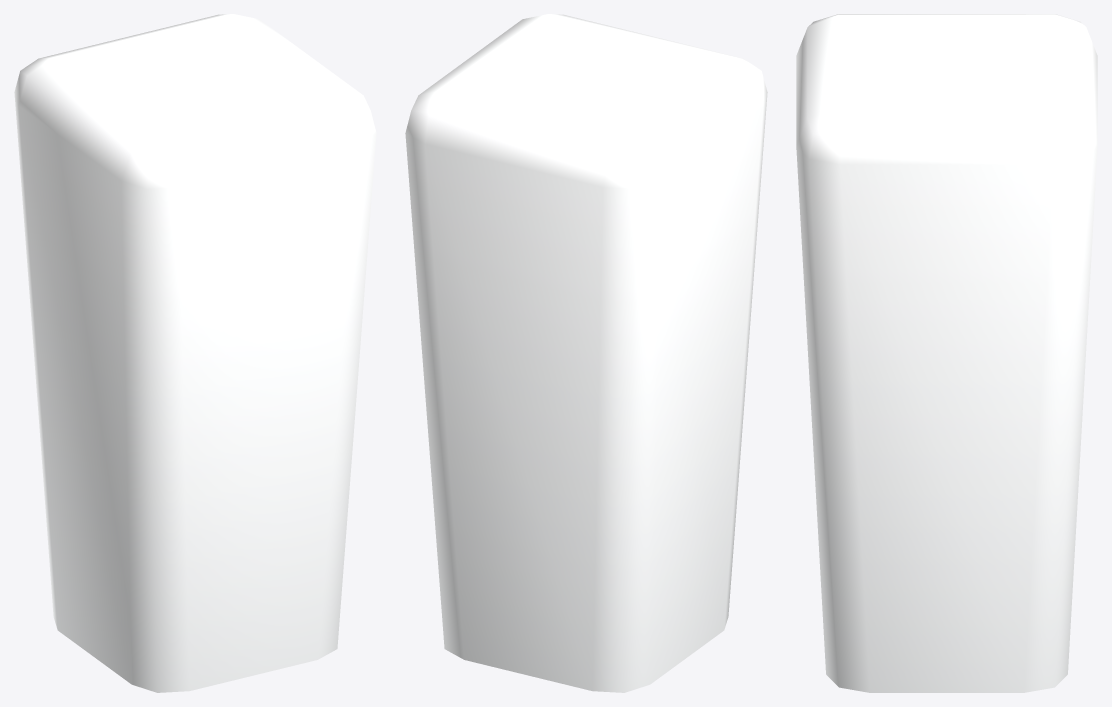
The model's file is FencePillar_01.glb.
3 renders of one model, left to right at view 1: azimuth 30°, elevation 25°; view 2: azimuth 150°, elevation 25°; view 3: azimuth 270°, elevation 25°, orthographic. The views are drawn at different scales.
Parts seen in each view (by area): view 1: FencePillar_01; view 2: FencePillar_01; view 3: FencePillar_01.
Part boxes in pixels (x1,y1,x2,y2): FencePillar_01: (14, 14, 376, 692); FencePillar_01: (405, 14, 767, 692); FencePillar_01: (796, 14, 1097, 692).
Size of the model in its own units: 0.4497 by 0.9558 by 0.4497.
1 material, 1 textured.
